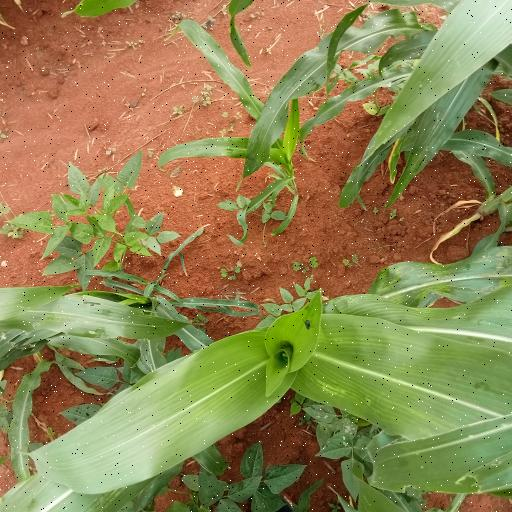Corn_Brown_Spots: (0, 308, 307, 511), (307, 307, 512, 498)
